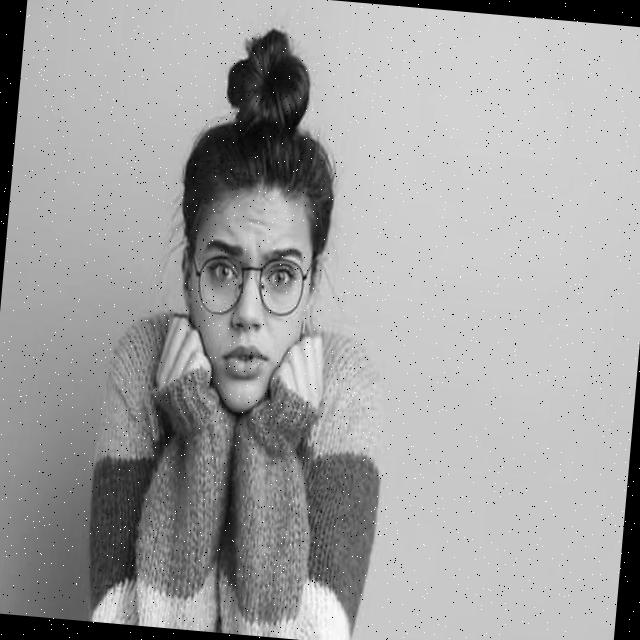Fear: (188, 184, 310, 416)
